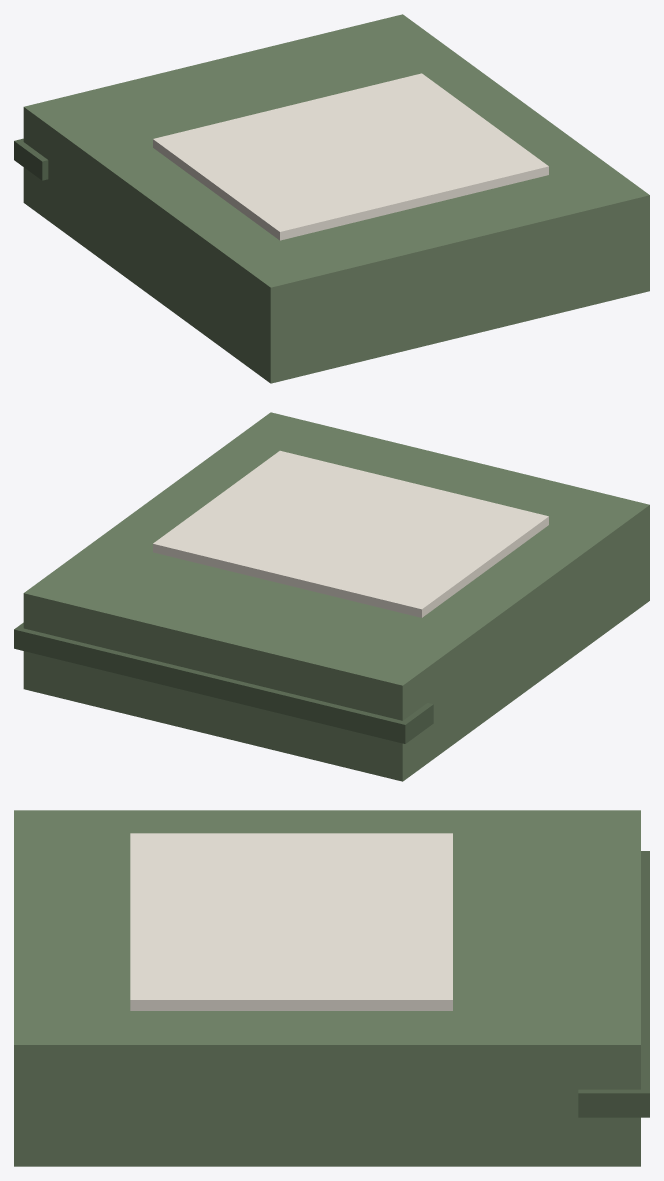
The model's file is SV_MP_SKU_02_v01_lod2.glb.
The picture shows the model from 3 angles, top to bottom: view 1: azimuth 30°, elevation 25°; view 2: azimuth 150°, elevation 25°; view 3: azimuth 270°, elevation 25°; orthographic projection. The views are drawn at different scales.
Visible parts, largest first — view 1: mproto_SV_MP_SKU_02_v01; view 2: mproto_SV_MP_SKU_02_v01; view 3: mproto_SV_MP_SKU_02_v01.
Part boxes in pixels (<box>): mproto_SV_MP_SKU_02_v01: <box>14,14,649,383</box>; mproto_SV_MP_SKU_02_v01: <box>14,412,649,781</box>; mproto_SV_MP_SKU_02_v01: <box>14,810,649,1166</box>.
Size of the model in its own units: 0.064 by 0.0163 by 0.071.
